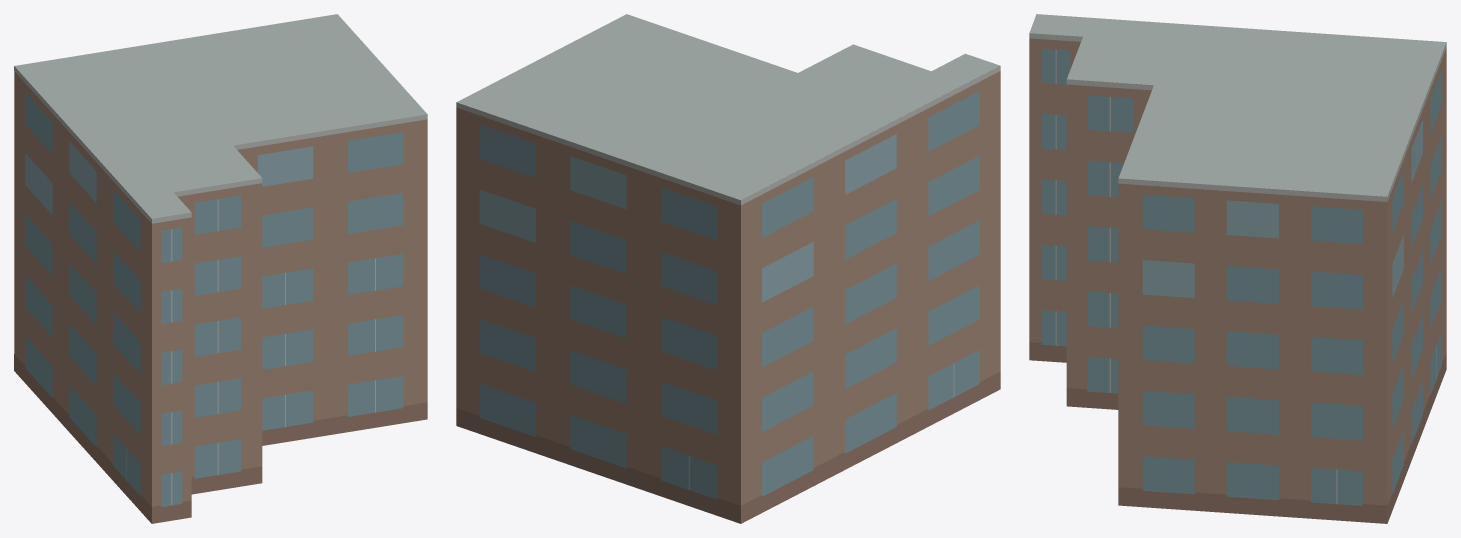
Rendered from residential-740e6a0f-fc9c-4d75-a2e2-46c4d147850c.glb.
3 views of the same model, side by side, from view 1: azimuth 30°, elevation 25°; view 2: azimuth 150°, elevation 25°; view 3: azimuth 270°, elevation 25° (orthographic). The views are drawn at different scales.
Parts seen in each view (by area): view 1: residential-740e6a0f-fc9c-4d75-a2e2-46c4d147850c.tmp; view 2: residential-740e6a0f-fc9c-4d75-a2e2-46c4d147850c.tmp; view 3: residential-740e6a0f-fc9c-4d75-a2e2-46c4d147850c.tmp.
Part boxes in pixels (x1,y1,x2,y2): residential-740e6a0f-fc9c-4d75-a2e2-46c4d147850c.tmp: (14, 14, 427, 523); residential-740e6a0f-fc9c-4d75-a2e2-46c4d147850c.tmp: (456, 14, 1000, 523); residential-740e6a0f-fc9c-4d75-a2e2-46c4d147850c.tmp: (1029, 14, 1446, 523).
Bounding box in the file's own units: 18.29 × 15.25 × 17.64.
